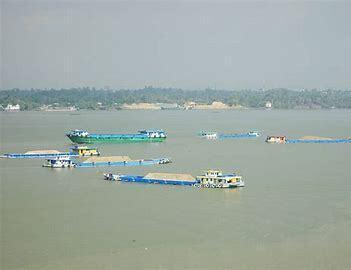Ship: (106, 172, 247, 190), (44, 157, 177, 169), (66, 129, 170, 143), (3, 147, 101, 159), (267, 133, 351, 144), (201, 129, 263, 141)
